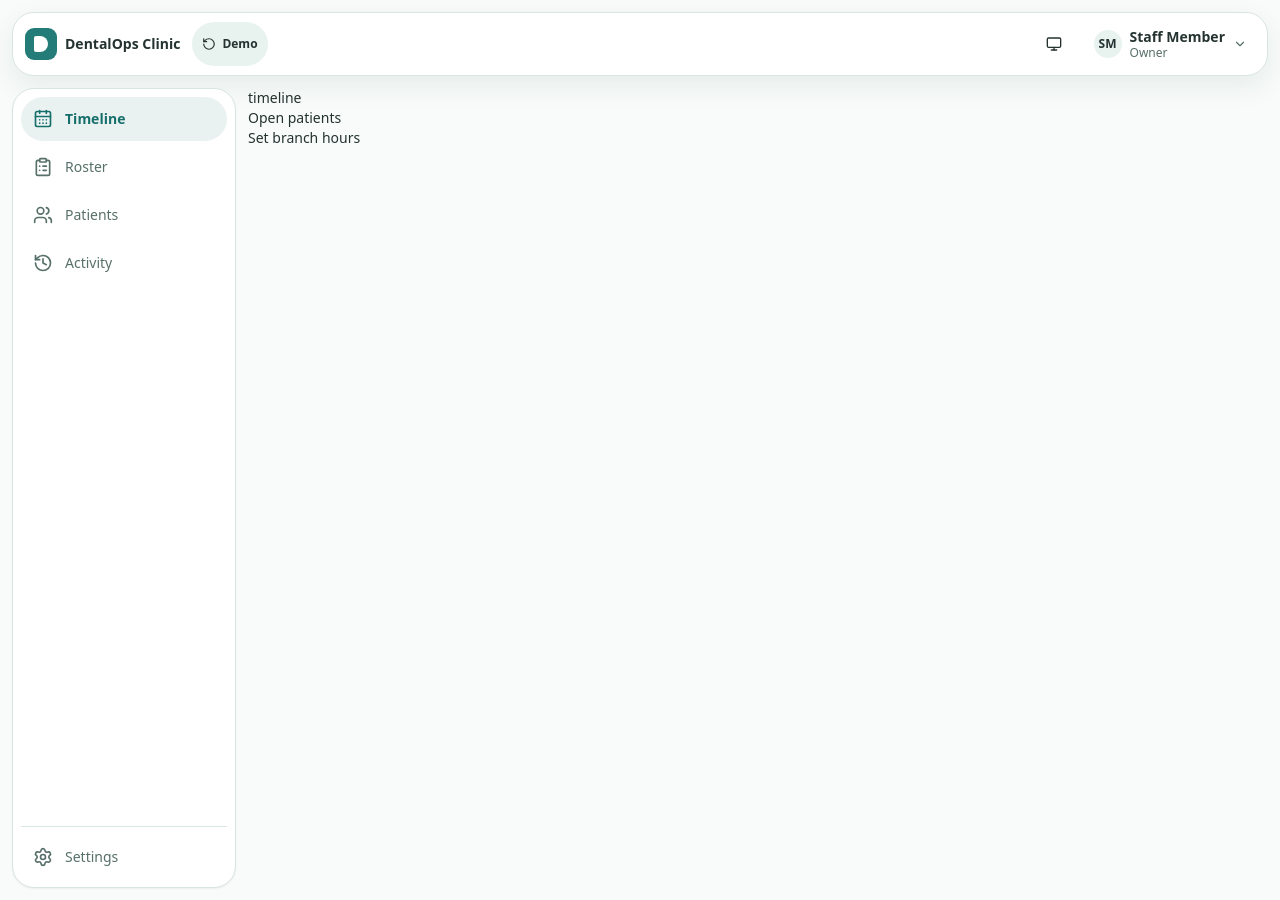
AppShell navigation › shows account context and uses demo-specific exit language
Expected: the text "DentalOps Clinic" is shown, [65,34,180,54]
Click the button with aria-label "Account: Staff Member".
click(1170, 44)  # box [1086,24,1255,64]
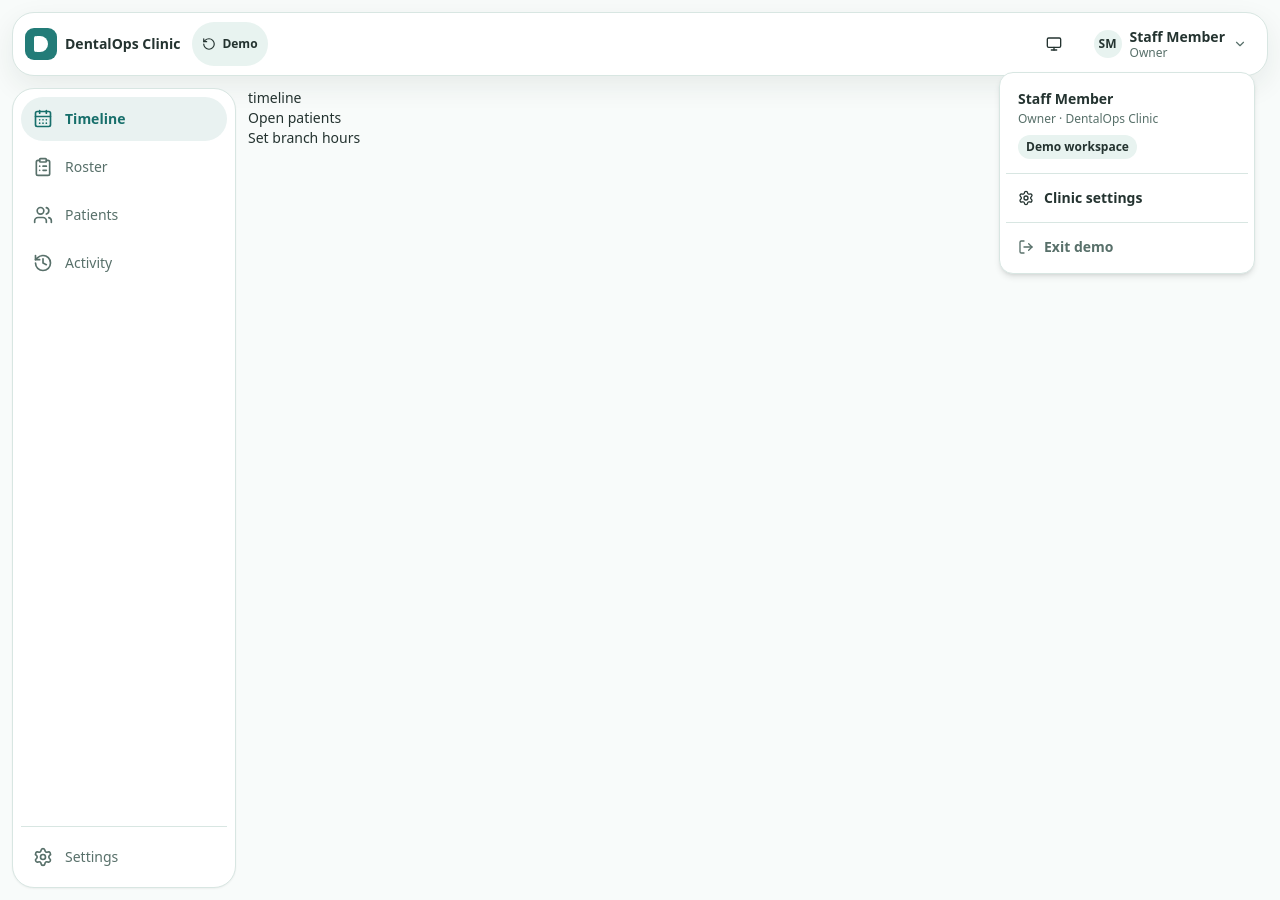
Result: the element with test id "account-menu-context" shows "Staff Member" at [1018,89,1114,108]
Result: the element with test id "account-menu-context" shows "Owner · DentalOps Clinic" at [1018,89,1158,159]
Result: the menu item "Exit demo" is shown at [1018,237,1114,256]
